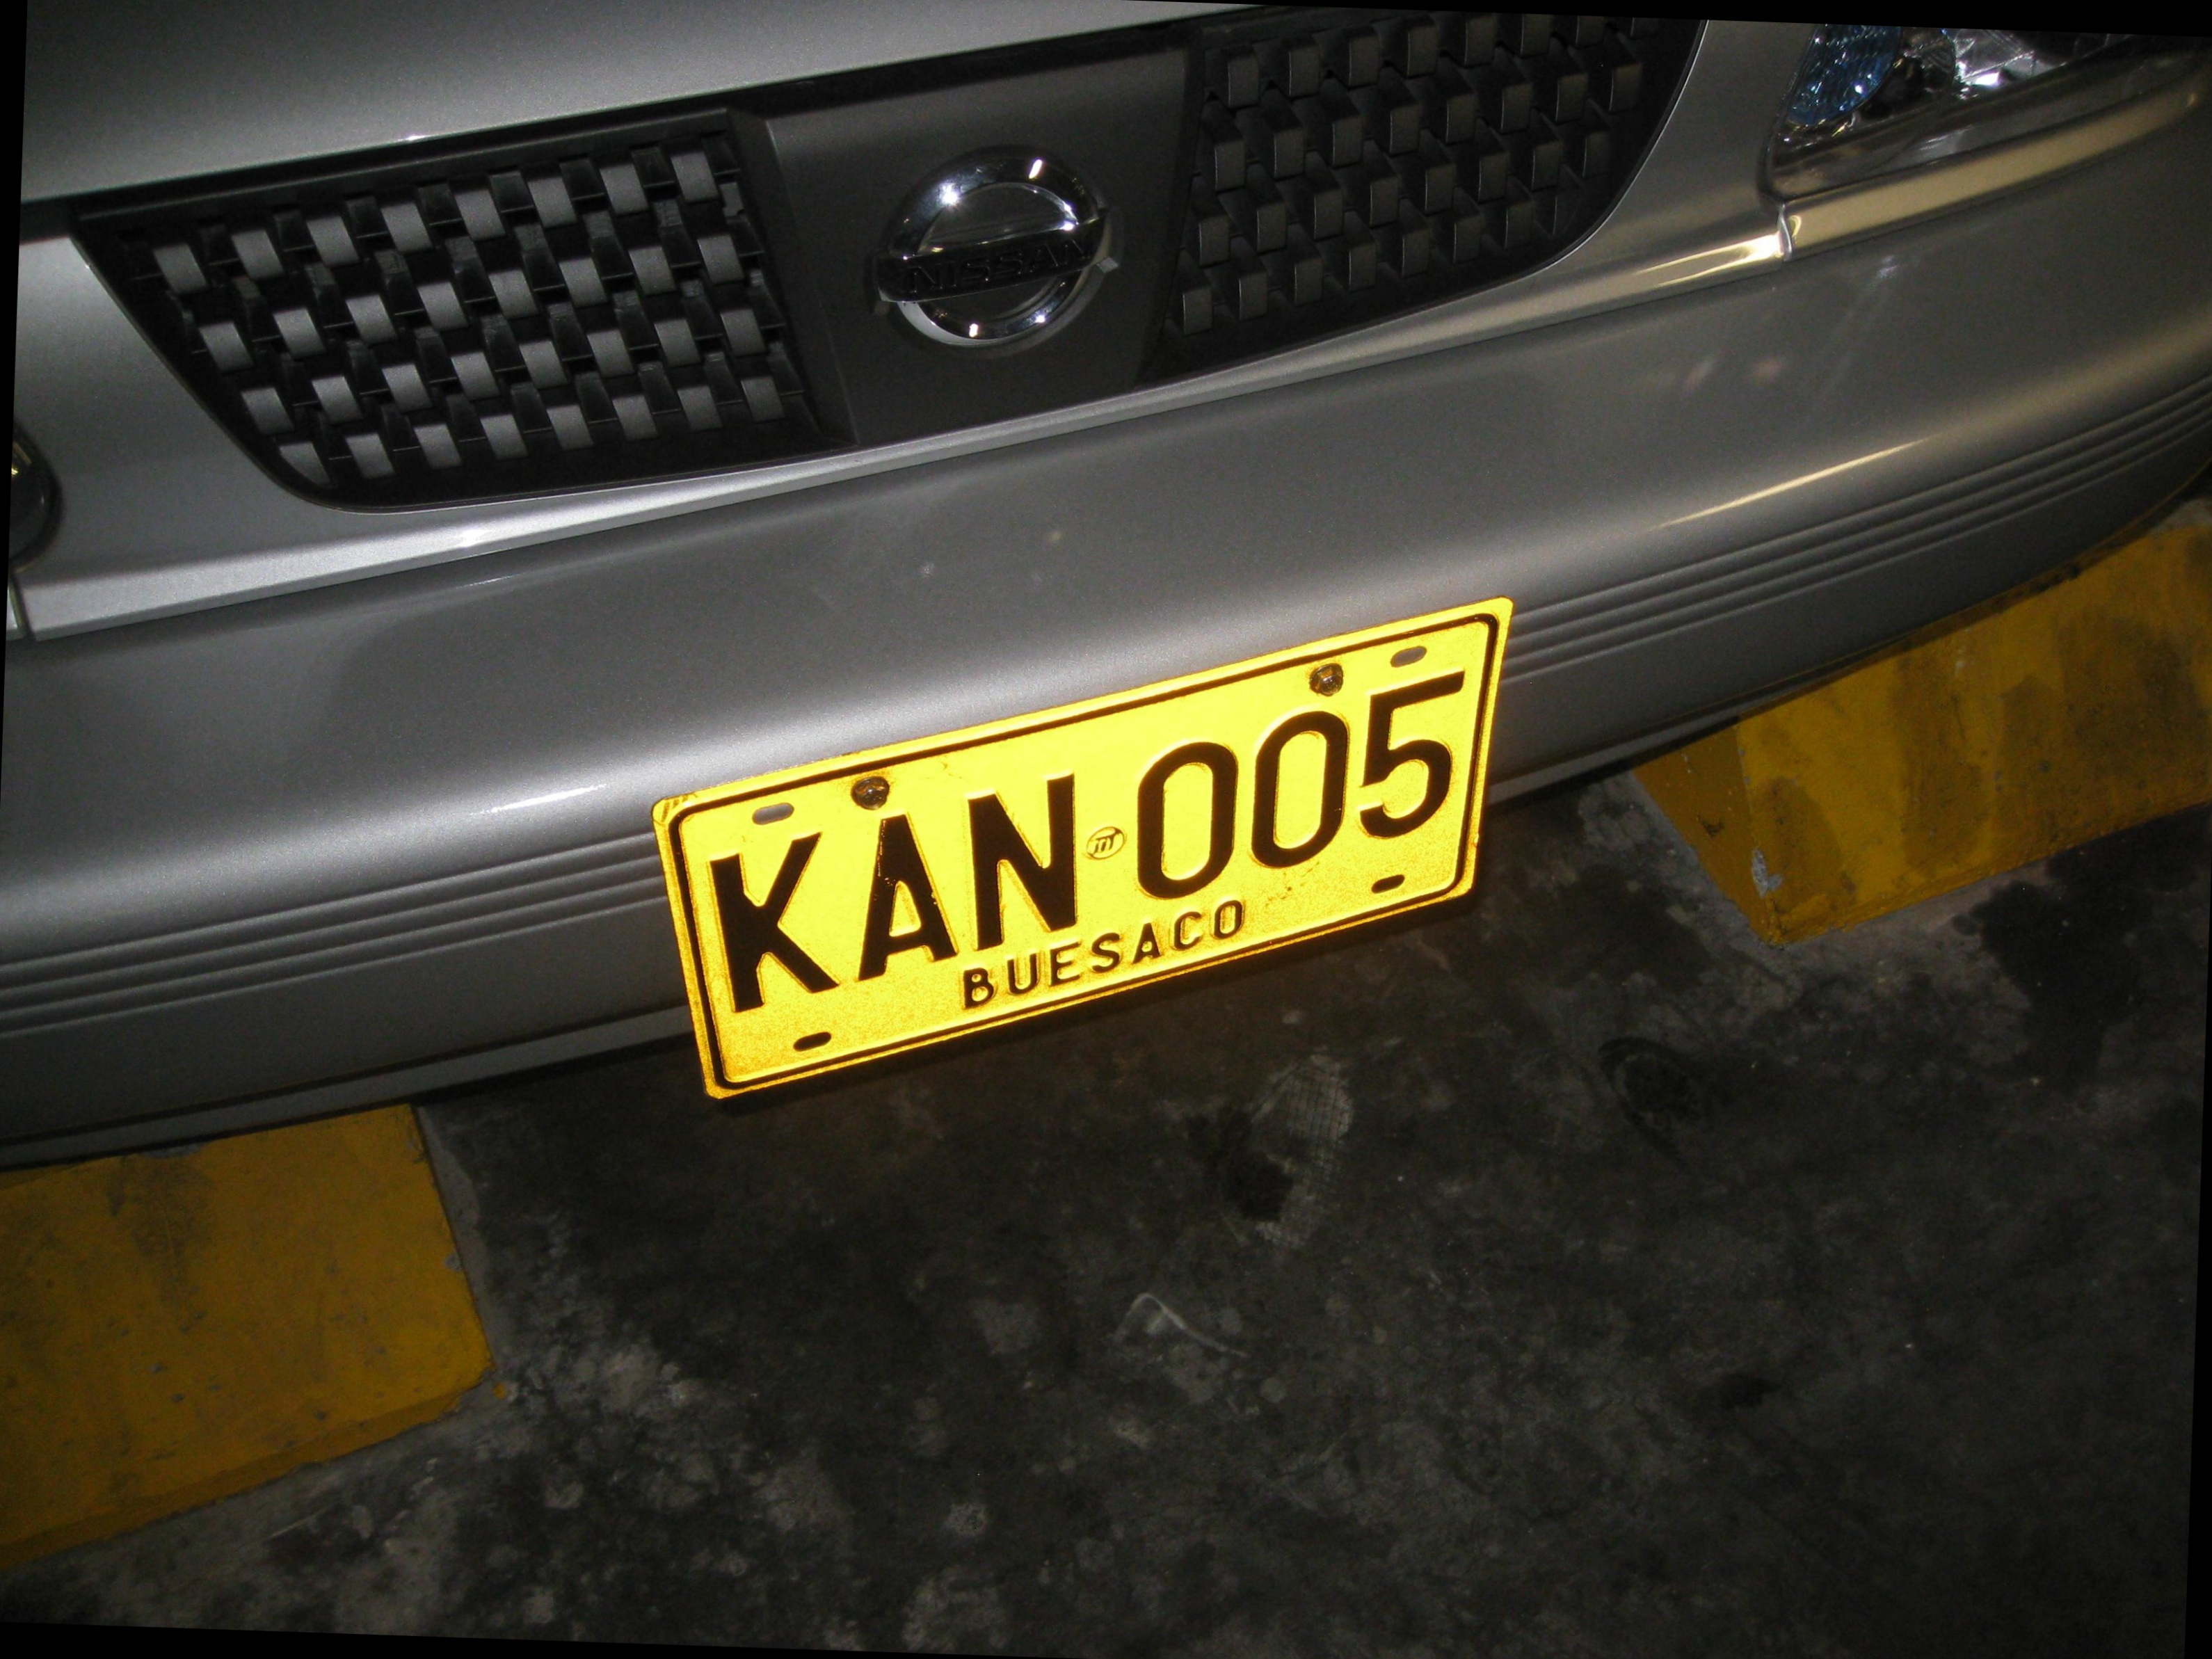placas: (634, 549, 1517, 1133)
